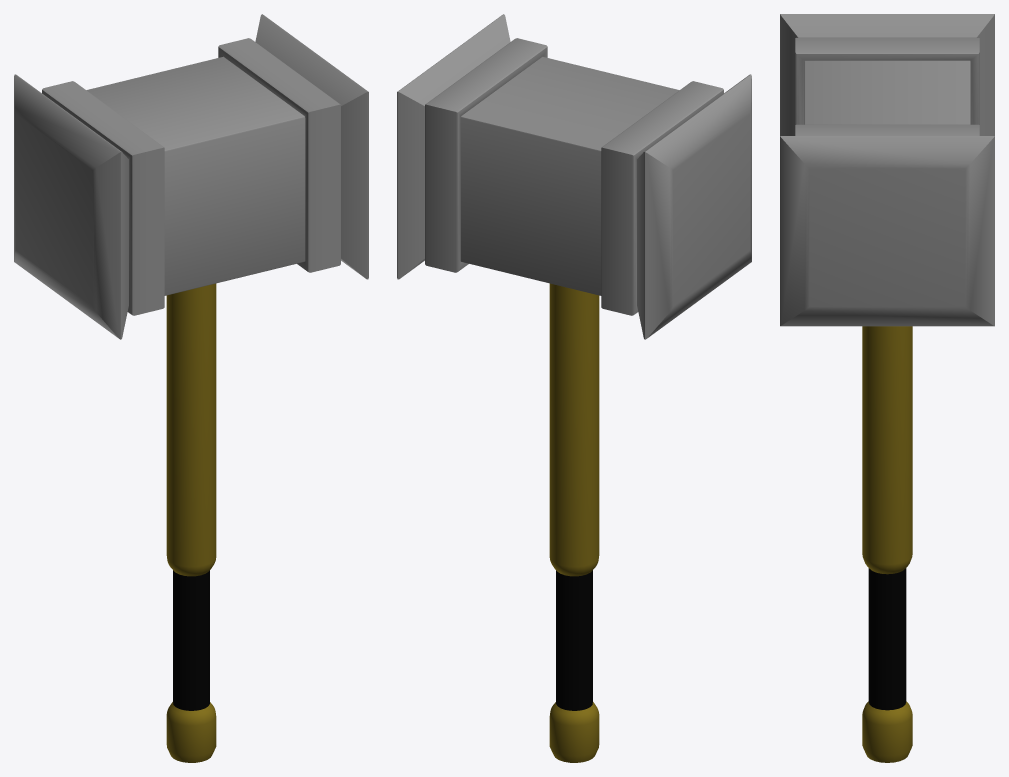
The model's file is OneHand_Hammer_Iron.fbx.
3 renders of one model, left to right at view 1: azimuth 30°, elevation 25°; view 2: azimuth 150°, elevation 25°; view 3: azimuth 270°, elevation 25°, orthographic.
Visible parts, largest first — view 1: OneHand_Hammer_Iron; view 2: OneHand_Hammer_Iron; view 3: OneHand_Hammer_Iron.
Part boxes in pixels (x1,y1,x2,y2): OneHand_Hammer_Iron: [14, 14, 368, 762]; OneHand_Hammer_Iron: [397, 14, 751, 762]; OneHand_Hammer_Iron: [780, 14, 994, 762].
Bounding box in the file's own units: 282 × 663 × 189.
